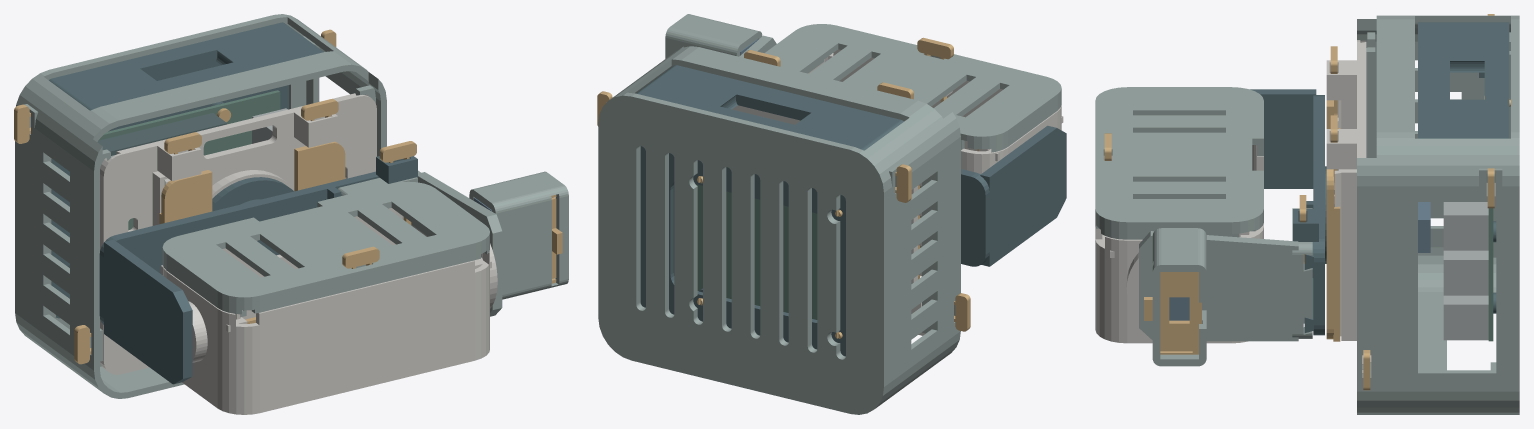
File: FORVIZ_V3_assembly.glb
3 views of the same model, side by side, from view 1: azimuth 30°, elevation 25°; view 2: azimuth 150°, elevation 25°; view 3: azimuth 270°, elevation 25° (orthographic). The views are drawn at different scales.
Parts seen in each view (by area): view 1: 01_base_shell, 09_head_face_shell, 10_sliding_rear_cowl, 05_pan_yoke, 03_sliding_top_deck, 02_electronics_drawer, 07_removable_tilt_tower, 06_pan_bearing_keeper, reference_Pi4_board, reference_Pi_GPIO, key_deck_left, key_cowl (+5 smaller); view 2: 01_base_shell, 10_sliding_rear_cowl, 02_electronics_drawer, 05_pan_yoke, reference_Pi4_board, 07_removable_tilt_tower, 09_head_face_shell, 03_sliding_top_deck, key_cowl, key_deck_left, key_drawer_left; view 3: 01_base_shell, 10_sliding_rear_cowl, 07_removable_tilt_tower, 02_electronics_drawer, 05_pan_yoke, 03_sliding_top_deck, reference_USB_Ethernet, 09_head_face_shell, 08_tilt_servo_gate, 06_pan_bearing_keeper, reference_Pi4_board, reference_pan_SG90 (+1 smaller).
Part boxes in pixels (x1,y1,x2,y2): 01_base_shell: (15, 14, 386, 398); 09_head_face_shell: (160, 208, 497, 414); 10_sliding_rear_cowl: (162, 181, 489, 316); 05_pan_yoke: (99, 156, 417, 384); 03_sliding_top_deck: (100, 93, 376, 374); 02_electronics_drawer: (49, 22, 323, 318); 07_removable_tilt_tower: (338, 170, 568, 316); 06_pan_bearing_keeper: (159, 141, 345, 224); reference_Pi4_board: (98, 90, 280, 230); reference_Pi_GPIO: (97, 113, 226, 155); key_deck_left: (74, 325, 91, 364); key_cowl: (342, 246, 379, 268); 01_base_shell: (598, 46, 960, 414); 10_sliding_rear_cowl: (764, 24, 1061, 152); 02_electronics_drawer: (636, 65, 903, 356); 05_pan_yoke: (920, 125, 1066, 266); reference_Pi4_board: (673, 184, 817, 319); 07_removable_tilt_tower: (665, 14, 776, 58); 09_head_face_shell: (808, 49, 1063, 173); 03_sliding_top_deck: (732, 105, 925, 335); key_cowl: (917, 37, 953, 102); key_deck_left: (954, 293, 970, 331); key_drawer_left: (895, 164, 911, 202); 01_base_shell: (1357, 15, 1519, 414); 10_sliding_rear_cowl: (1095, 87, 1263, 239); 07_removable_tilt_tower: (1139, 208, 1312, 366); 02_electronics_drawer: (1418, 22, 1509, 313); 05_pan_yoke: (1250, 89, 1338, 335); 03_sliding_top_deck: (1326, 40, 1371, 373); reference_USB_Ethernet: (1443, 202, 1488, 340); 09_head_face_shell: (1095, 145, 1263, 343); 08_tilt_servo_gate: (1144, 272, 1201, 354); 06_pan_bearing_keeper: (1326, 100, 1340, 341); reference_Pi4_board: (1488, 208, 1493, 341); reference_pan_SG90: (1418, 202, 1430, 252).
Bounding box in the file's own units: 159 × 106 × 146.
